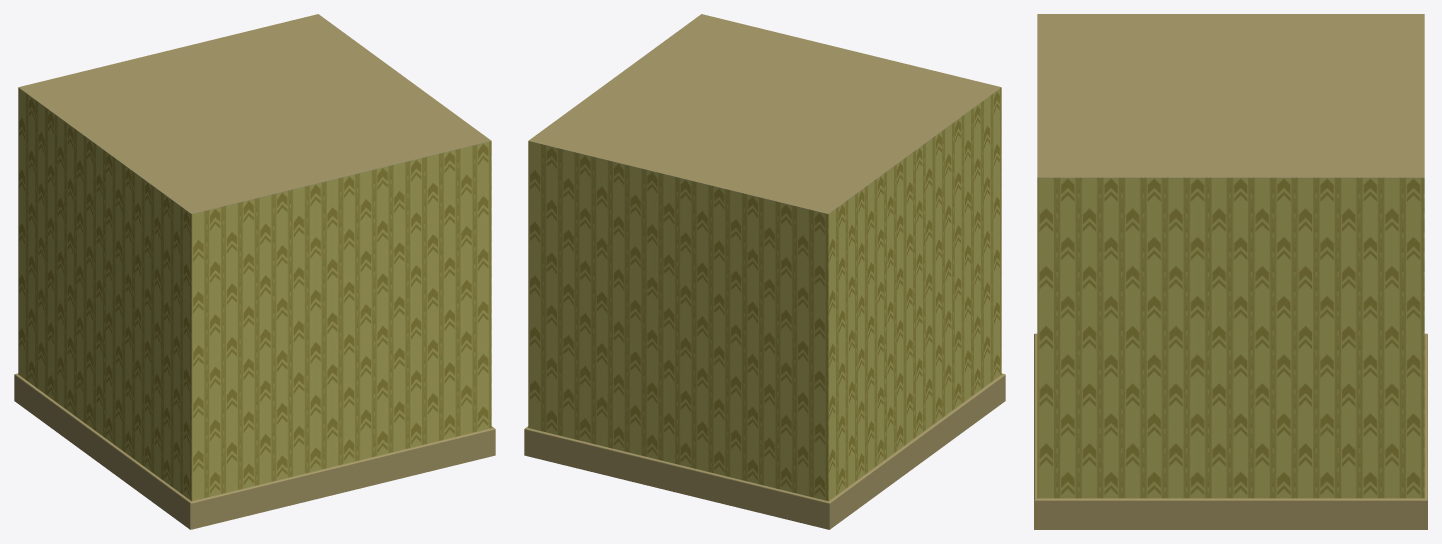
File: Backrooms Tiles.fbx_Cube.fbx
3 views of the same model, side by side, from view 1: azimuth 30°, elevation 25°; view 2: azimuth 150°, elevation 25°; view 3: azimuth 270°, elevation 25° (orthographic). The views are drawn at different scales.
Parts seen in each view (by area): view 1: Cube; view 2: Cube; view 3: Cube.
Part boxes in pixels (left/top/right/bottom): Cube: left=14, top=14, right=495, bottom=529; Cube: left=524, top=14, right=1005, bottom=529; Cube: left=1034, top=14, right=1427, bottom=529.
Bounding box in the file's own units: 203 × 200 × 203.
